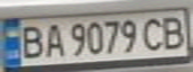0: (84, 18, 106, 56)
7: (103, 17, 124, 55)
9: (118, 16, 142, 54), (66, 19, 87, 57)
A: (39, 20, 66, 58)
B: (157, 12, 190, 51), (15, 22, 48, 60)
C: (139, 15, 169, 52)
